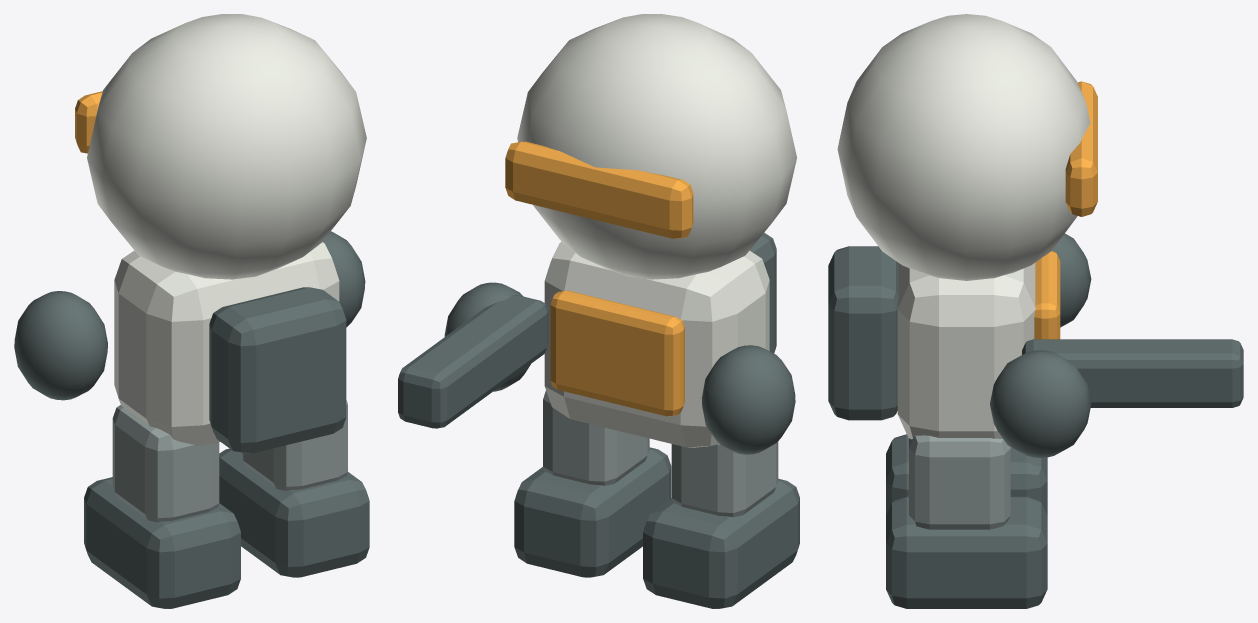
The model's file is soldier.glb.
The picture shows the model from 3 angles, left to right: view 1: azimuth 30°, elevation 25°; view 2: azimuth 150°, elevation 25°; view 3: azimuth 270°, elevation 25°; orthographic projection.
Visible parts, largest first — view 1: Helmet, Backpack, Soldier body, Soldier boot, Soldier boot.001, Soldier leg, Glove, Soldier leg.001, Glove.001, Visor; view 2: Helmet, Soldier body, Soldier boot, Orange chest plate, Soldier boot.001, Rifle, Visor, Glove, Soldier leg, Soldier leg.001, Glove.001, Backpack; view 3: Helmet, Soldier body, Soldier boot.001, Rifle, Backpack, Soldier leg.001, Glove.001, Soldier boot, Visor, Glove, Orange chest plate.
Boxes of the visible parts, x1,y1,x2,y2 form: Helmet: [87, 14, 366, 279]; Backpack: [209, 287, 346, 453]; Soldier body: [114, 242, 339, 446]; Soldier boot: [84, 477, 240, 608]; Soldier boot.001: [219, 448, 369, 577]; Soldier leg: [112, 405, 219, 522]; Glove: [14, 291, 107, 400]; Soldier leg.001: [241, 400, 347, 490]; Glove.001: [322, 231, 365, 327]; Visor: [75, 91, 102, 153]; Helmet: [517, 14, 796, 279]; Soldier body: [544, 242, 769, 447]; Soldier boot: [643, 478, 799, 608]; Orange chest plate: [550, 290, 684, 416]; Soldier boot.001: [514, 447, 671, 577]; Rifle: [398, 294, 548, 428]; Visor: [505, 141, 693, 238]; Glove: [701, 345, 795, 454]; Soldier leg: [671, 441, 778, 517]; Soldier leg.001: [543, 390, 649, 485]; Glove.001: [444, 282, 530, 391]; Backpack: [750, 232, 776, 353]; Helmet: [837, 14, 1090, 280]; Soldier body: [897, 263, 1035, 447]; Soldier boot.001: [886, 496, 1047, 608]; Rifle: [1022, 339, 1243, 407]; Backpack: [828, 246, 898, 420]; Soldier leg.001: [909, 435, 1010, 529]; Glove.001: [990, 350, 1091, 457]; Soldier boot: [886, 434, 1047, 515]; Visor: [1065, 81, 1097, 216]; Glove: [1052, 233, 1091, 327]; Orange chest plate: [1034, 251, 1060, 339].
Bounding box in the file's own units: 0.84 × 1.28 × 0.9.
